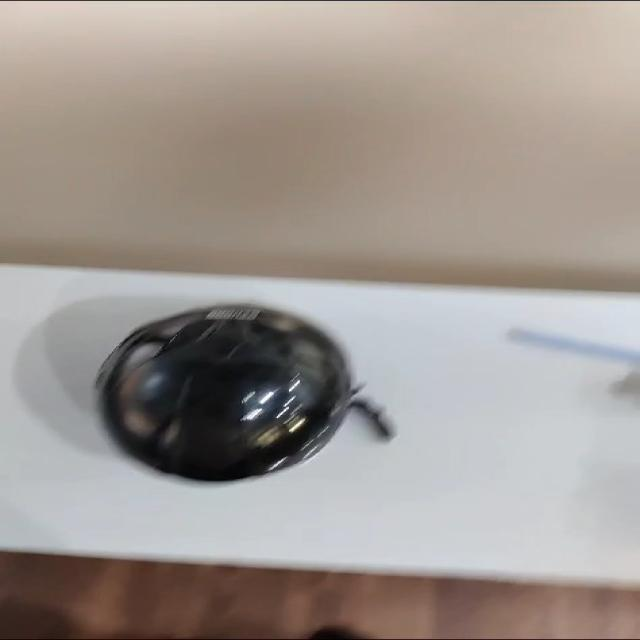helmet: (100, 298, 360, 498)
